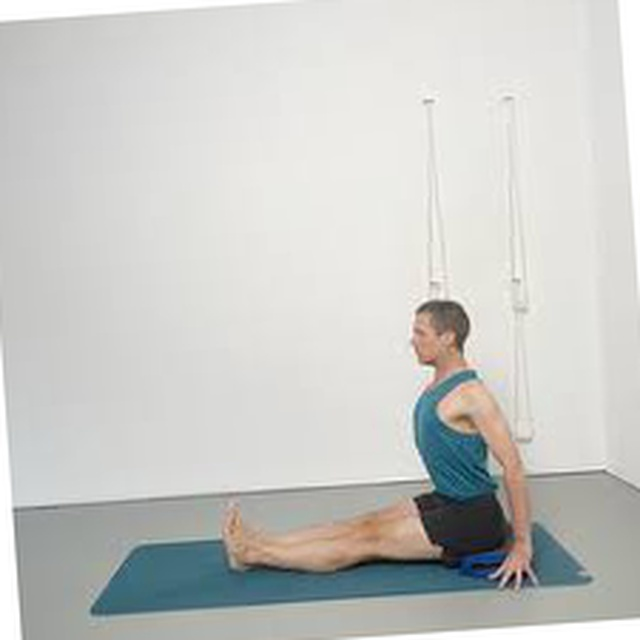Staff_Pose: (220, 298, 542, 594)
